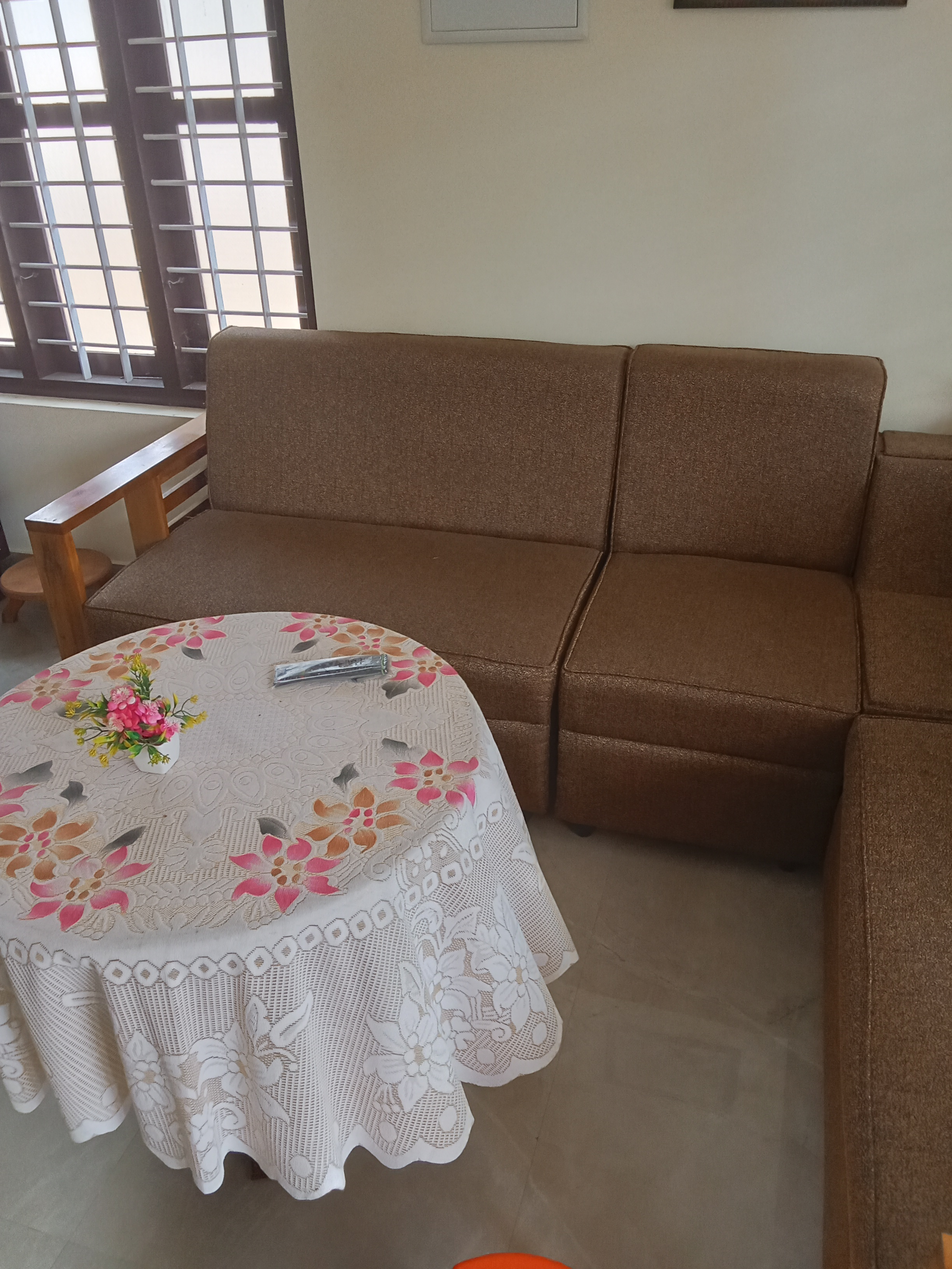sofa: (27, 322, 884, 859)
table: (0, 606, 583, 1202)
